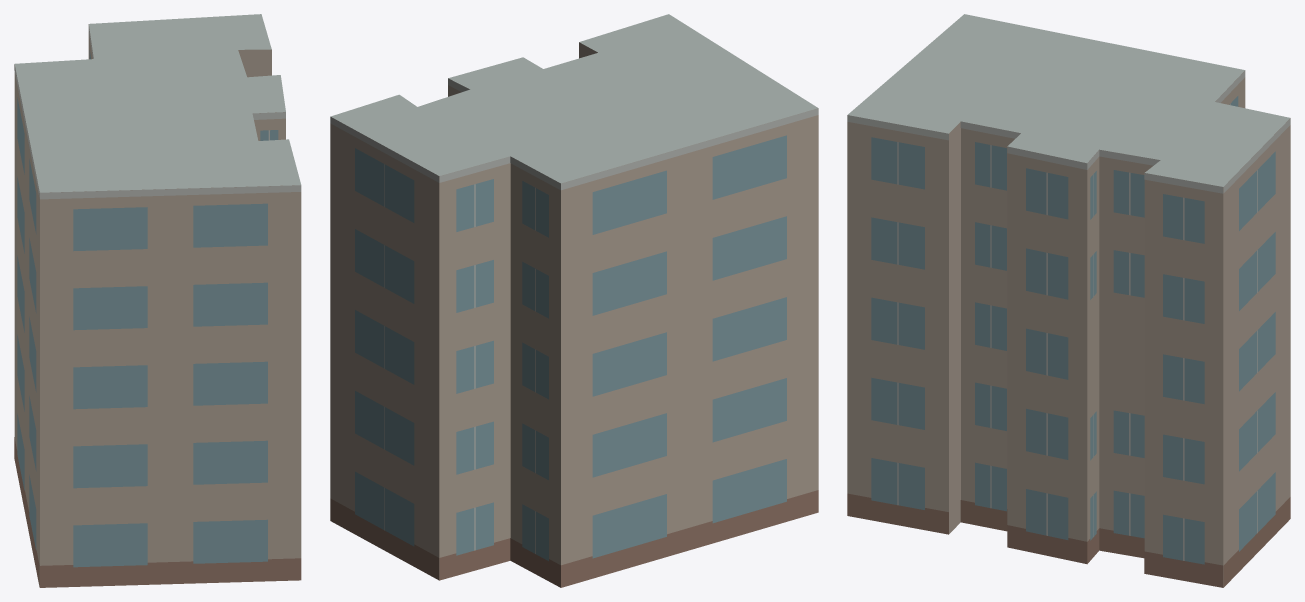
File: survey-upis-32562542.glb
3 renders of one model, left to right at view 1: azimuth 30°, elevation 25°; view 2: azimuth 150°, elevation 25°; view 3: azimuth 270°, elevation 25°, orthographic. The views are drawn at different scales.
Parts seen in each view (by area): view 1: survey-upis-32562542.tmp; view 2: survey-upis-32562542.tmp; view 3: survey-upis-32562542.tmp.
Boxes of the visible parts, left/top/right/bottom form: survey-upis-32562542.tmp: left=14, top=14, right=301, bottom=587; survey-upis-32562542.tmp: left=330, top=14, right=818, bottom=587; survey-upis-32562542.tmp: left=847, top=14, right=1290, bottom=587.
Bounding box in the file's own units: 13.38 × 14.45 × 14.49.
